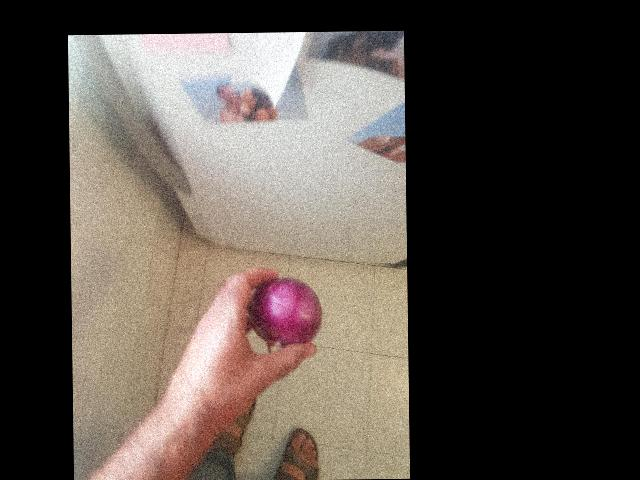onion: (250, 276, 319, 349)
